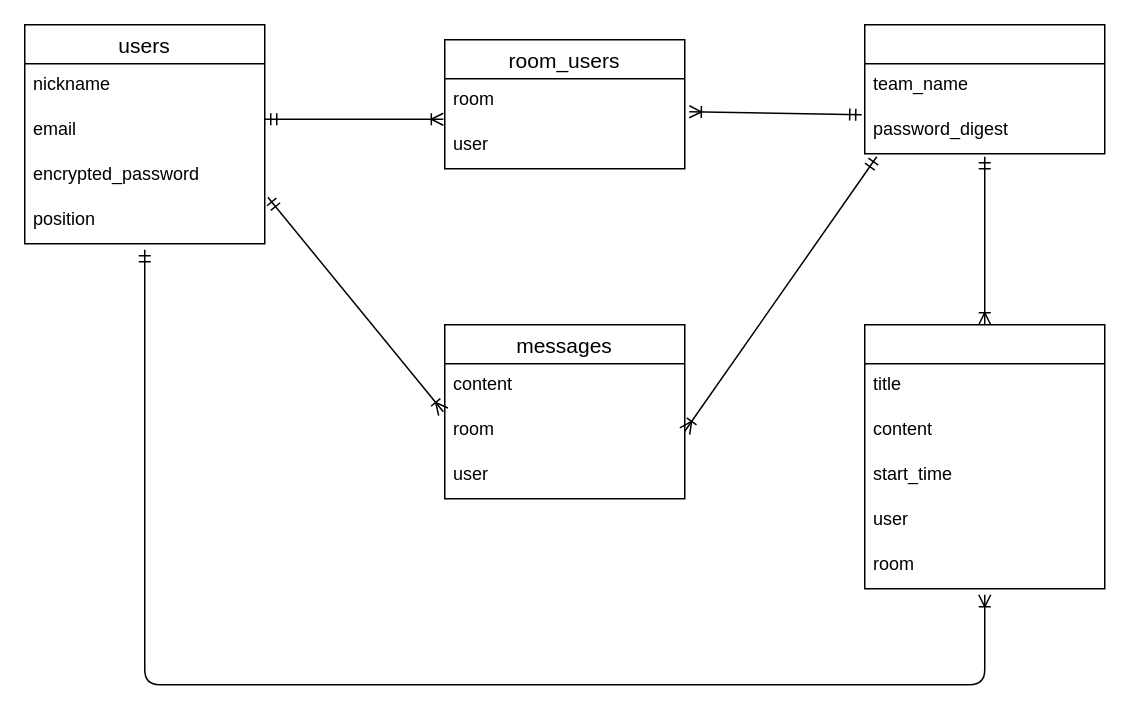
This 1130x710 diagram has some shape labels left out. The box of each missing label's shape, as (x1, y1, x2, y2) in pixels:
events: (863, 323, 1105, 589)
rooms: (863, 23, 1105, 154)
